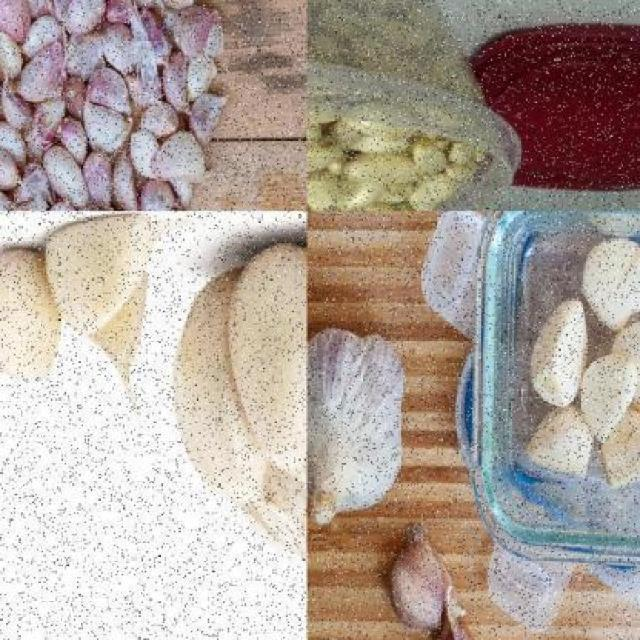garlic: (166, 238, 306, 620), (0, 0, 223, 209), (306, 0, 488, 209), (0, 212, 172, 412), (526, 236, 640, 489), (306, 324, 412, 528), (388, 530, 490, 639)
